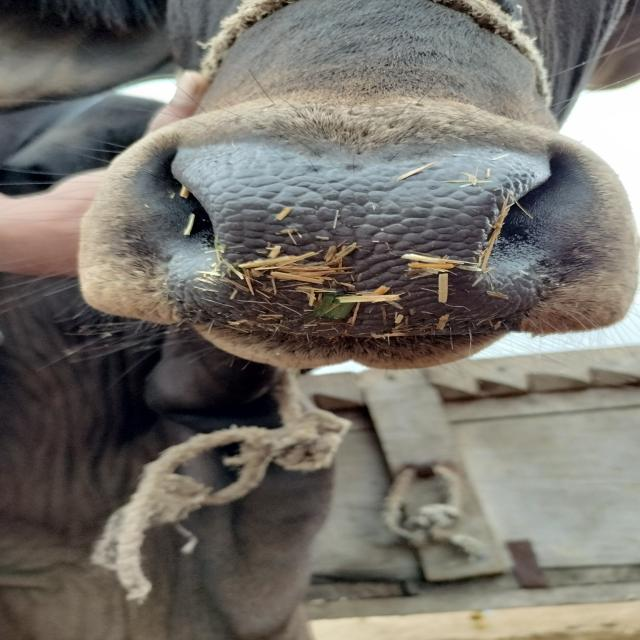muzzles: (123, 113, 604, 355)
